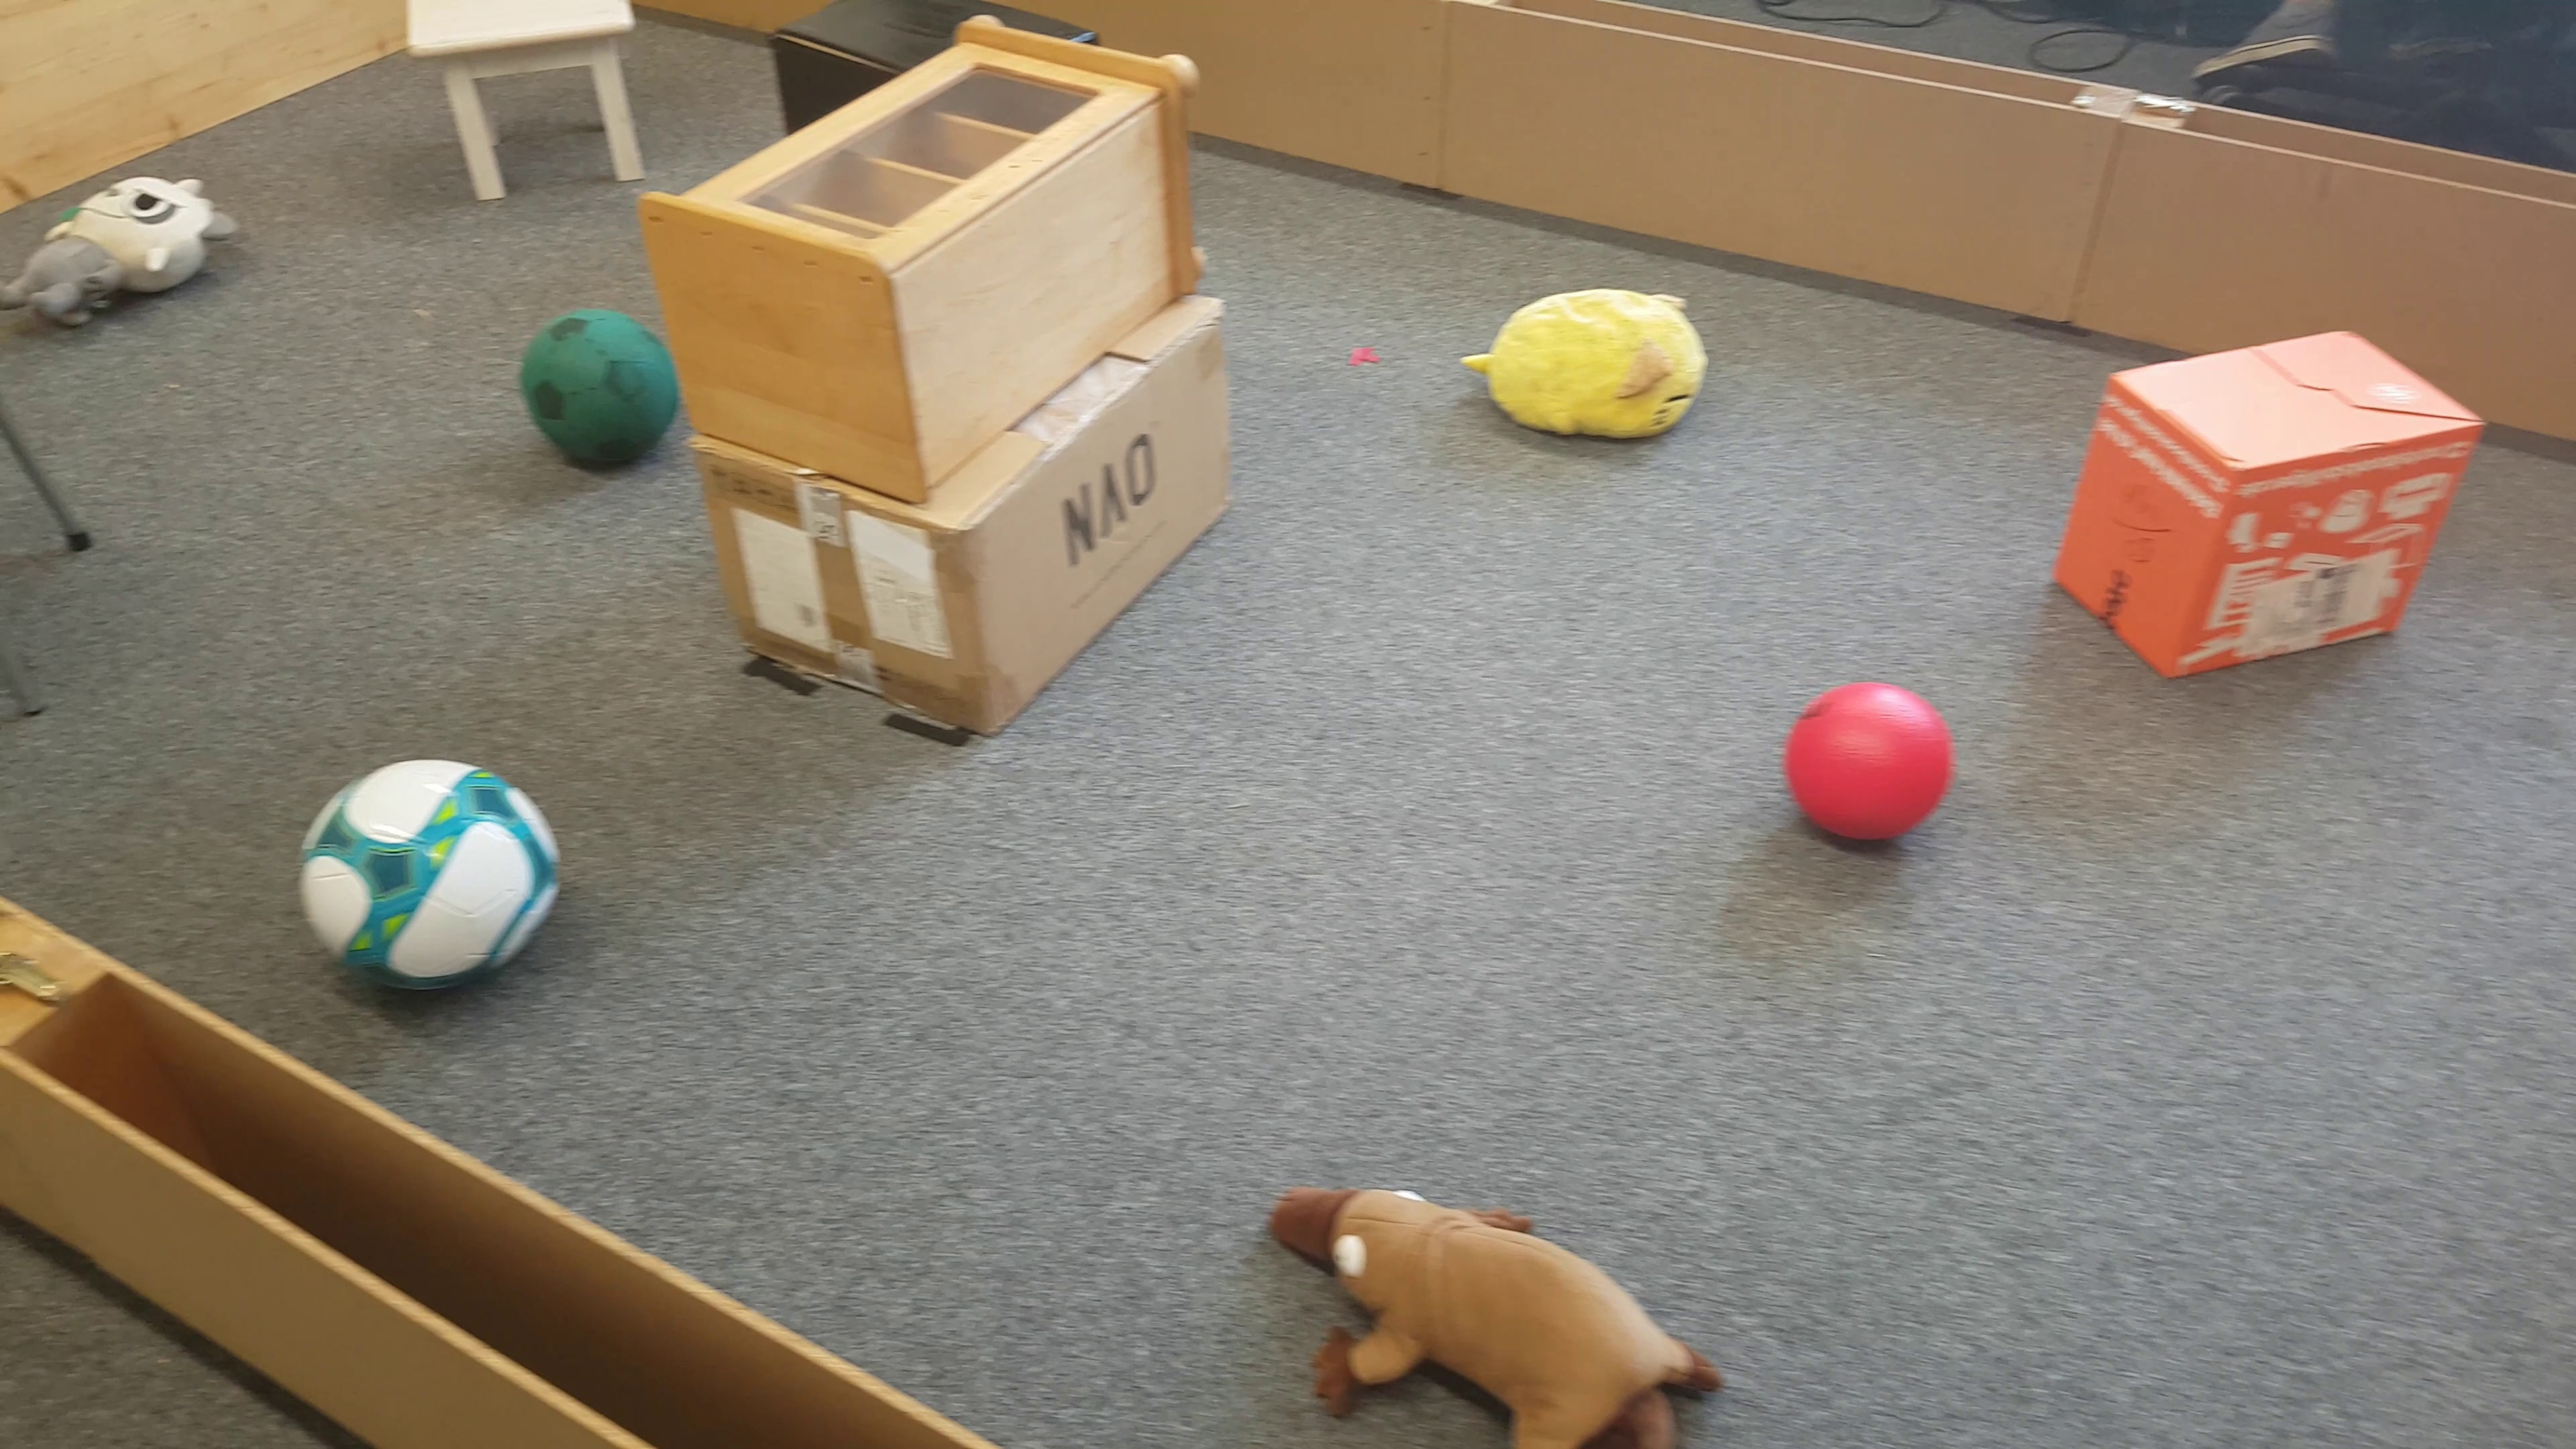grasp: (1263, 1180, 1720, 1449), (5, 177, 239, 331), (1468, 287, 1707, 435)
kick: (294, 757, 561, 991), (1785, 681, 1957, 853), (517, 311, 683, 479)
push: (2051, 324, 2488, 678), (775, 2, 904, 67)
